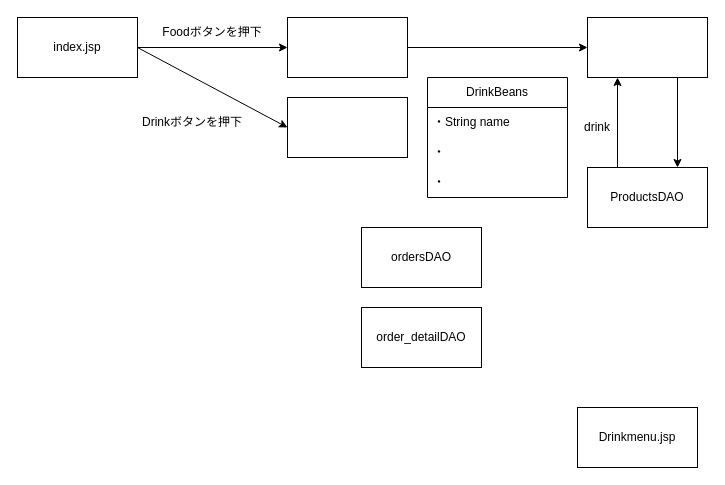
The diagram is 725 pixels wide and 485 high, and some of its shapes have lost their labels. The shapes that lost their labels are listed below. From the top down, each one's centre as x and y in pixels, then its label:
At pixel 347 47: "FoodServlet".
At pixel 647 47: "Logic".
At pixel 347 127: "DrinkServlet".
